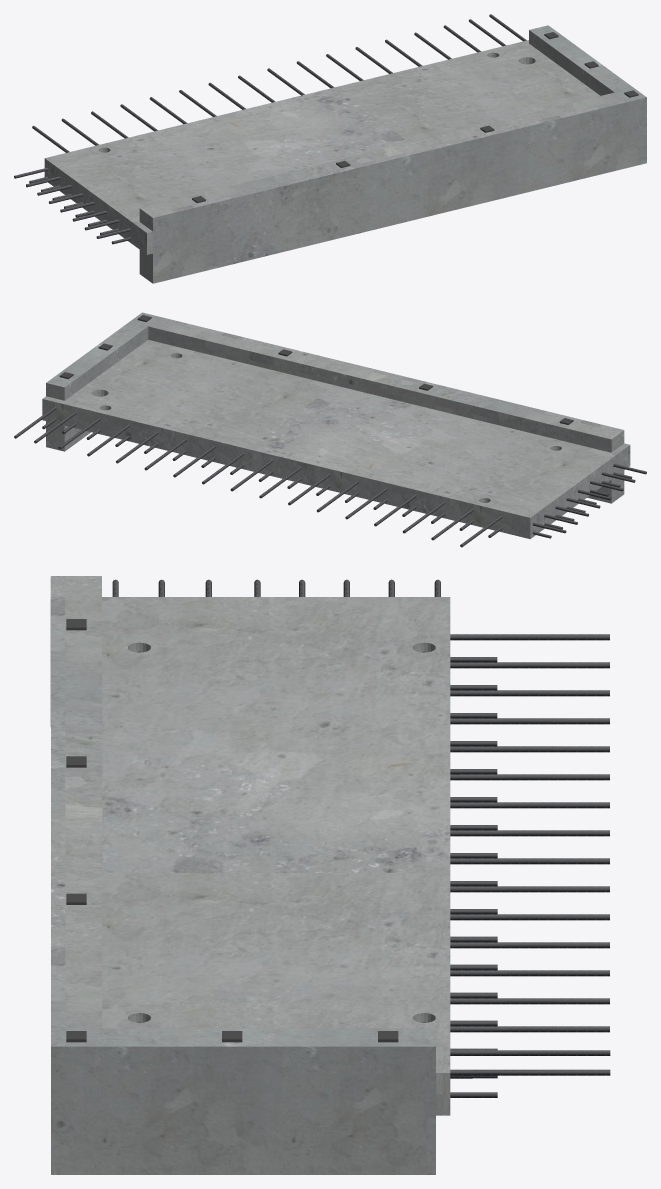
Rendered from 预制阳台.fbx.
3 views of the same model, one above another, from view 1: azimuth 30°, elevation 25°; view 2: azimuth 150°, elevation 25°; view 3: azimuth 270°, elevation 25° (orthographic). The views are drawn at different scales.
Visible parts, largest first — view 1: 底梁, 外伸钢筋, 预埋件; view 2: 底梁, 外伸钢筋, 预埋件; view 3: 底梁, 外伸钢筋, 预埋件.
Part boxes in pixels (x1,y1,x2,y2): 底梁: (44,25,646,283); 外伸钢筋: (14,14,526,244); 预埋件: (192,32,638,203); 底梁: (42,312,630,538); 外伸钢筋: (14,406,646,547); 预埋件: (59,315,573,424); 底梁: (50,576,450,1174); 外伸钢筋: (112,579,610,1097); 预埋件: (66,619,398,1042).
Size of the model in its own units: 389 by 46.92 by 181.
